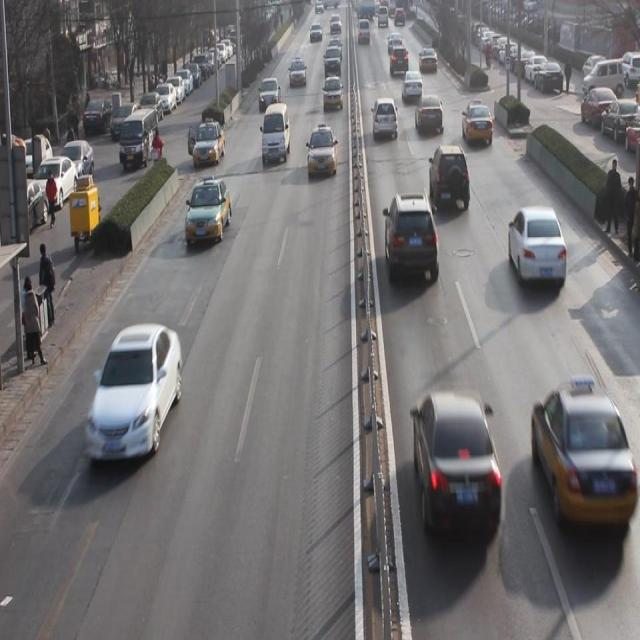car: (533, 387, 624, 539), (411, 392, 505, 534), (87, 332, 181, 462), (384, 194, 440, 290), (507, 204, 569, 289), (186, 181, 231, 246), (431, 142, 471, 215), (307, 125, 337, 176), (462, 99, 493, 145), (192, 122, 225, 164), (370, 98, 397, 143), (414, 95, 445, 134), (322, 76, 344, 112), (259, 78, 281, 109), (402, 70, 422, 102), (290, 58, 308, 87), (324, 47, 341, 74)
truck: (261, 102, 290, 168)
